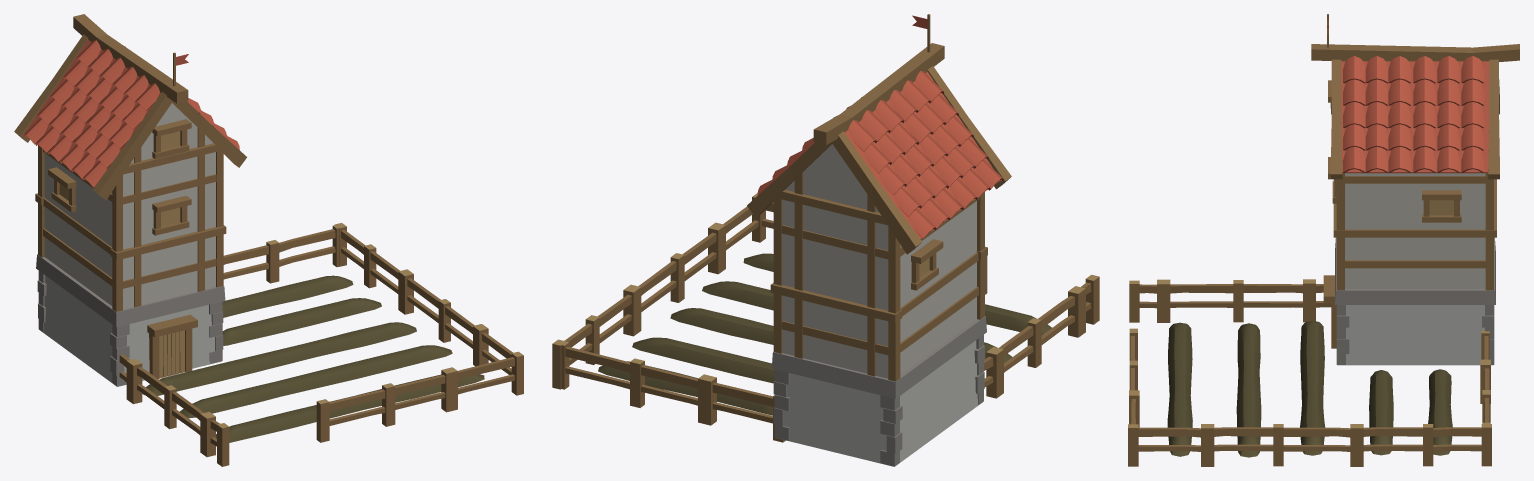
Rendered from Farm_SecondAge_Level3.glb.
The picture shows the model from 3 angles, left to right: view 1: azimuth 30°, elevation 25°; view 2: azimuth 150°, elevation 25°; view 3: azimuth 270°, elevation 25°; orthographic projection. The views are drawn at different scales.
Visible parts, largest first — view 1: Farm_SecondAge_Level3; view 2: Farm_SecondAge_Level3; view 3: Farm_SecondAge_Level3.
Boxes of the visible parts, <box> form: Farm_SecondAge_Level3: <box>14,14,523,466</box>; Farm_SecondAge_Level3: <box>552,14,1099,466</box>; Farm_SecondAge_Level3: <box>1128,14,1519,466</box>.
Size of the model in its own units: 1.91 by 1.84 by 1.98.
1 material, 1 textured.
